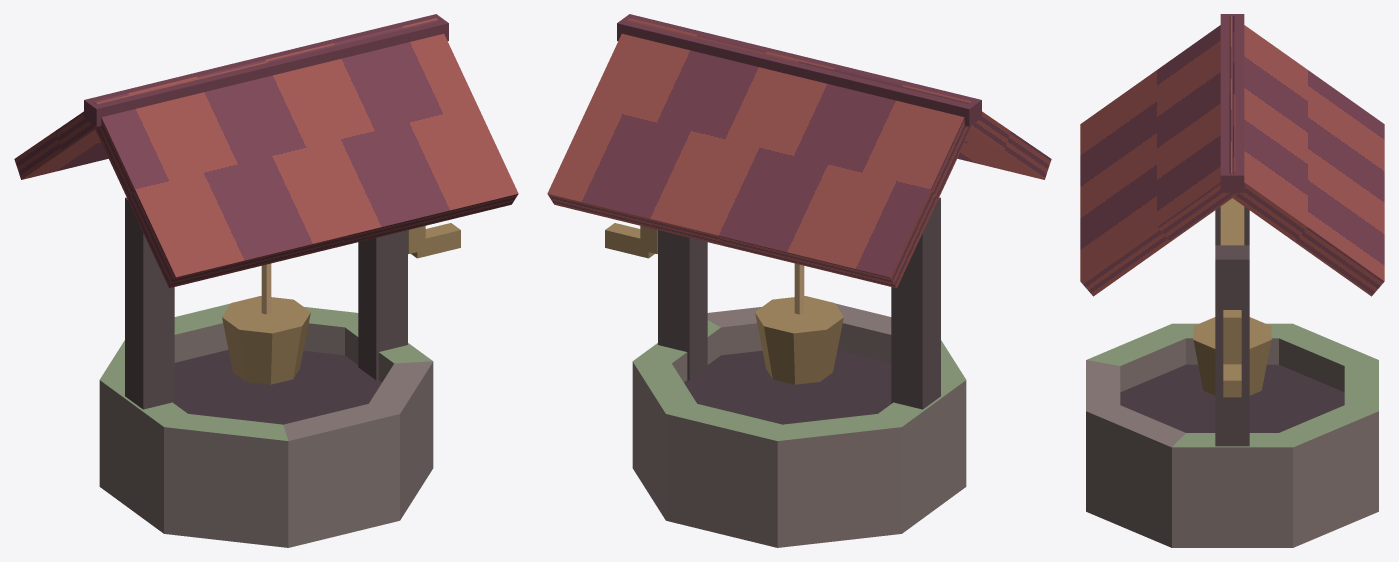
Rendered from well.glb.
3 renders of one model, left to right at view 1: azimuth 30°, elevation 25°; view 2: azimuth 150°, elevation 25°; view 3: azimuth 270°, elevation 25°, orthographic. The views are drawn at different scales.
Visible parts, largest first — view 1: RoofF, Ring, Water, PostL, Ridge, PostR, Bucket, RoofB, CrankGrip; view 2: RoofB, Ring, Water, PostL, Ridge, PostR, Bucket, RoofF, CrankGrip; view 3: Ring, RoofF, RoofB, Water, PostR, Ridge, Bucket, Beam, CrankArm, CrankGrip, PostL.
Part boxes in pixels (left/top/right/bottom): RoofF: left=93, top=18, right=518, bottom=288; Ring: left=99, top=303, right=433, bottom=547; Water: left=174, top=350, right=381, bottom=424; PostL: left=125, top=197, right=174, bottom=409; Ridge: left=84, top=14, right=448, bottom=126; PostR: left=358, top=230, right=407, bottom=380; Bucket: left=222, top=296, right=310, bottom=384; RoofB: left=14, top=19, right=438, bottom=179; CrankGrip: left=411, top=223, right=460, bottom=258; RoofB: left=547, top=18, right=972, bottom=288; Ring: left=632, top=303, right=966, bottom=547; Water: left=684, top=350, right=891, bottom=424; PostL: left=891, top=197, right=940, bottom=409; Ridge: left=617, top=14, right=981, bottom=126; PostR: left=658, top=230, right=707, bottom=380; Bucket: left=755, top=296, right=843, bottom=384; RoofF: left=627, top=19, right=1051, bottom=179; CrankGrip: left=605, top=223, right=654, bottom=258; Ring: left=1086, top=323, right=1378, bottom=547; RoofF: left=1080, top=15, right=1246, bottom=296; RoofB: left=1218, top=15, right=1384, bottom=296; Water: left=1120, top=364, right=1344, bottom=432; PostR: left=1215, top=245, right=1249, bottom=446; Ridge: left=1220, top=14, right=1244, bottom=192; Bucket: left=1193, top=317, right=1271, bottom=395; Beam: left=1220, top=198, right=1244, bottom=245; CrankArm: left=1223, top=310, right=1241, bottom=364; CrankGrip: left=1223, top=364, right=1241, bottom=397; PostL: left=1215, top=207, right=1249, bottom=245.
Bounding box in the file's own units: 1.51 × 1.64 × 1.15.
Materials: 8 (1 with a texture image).
